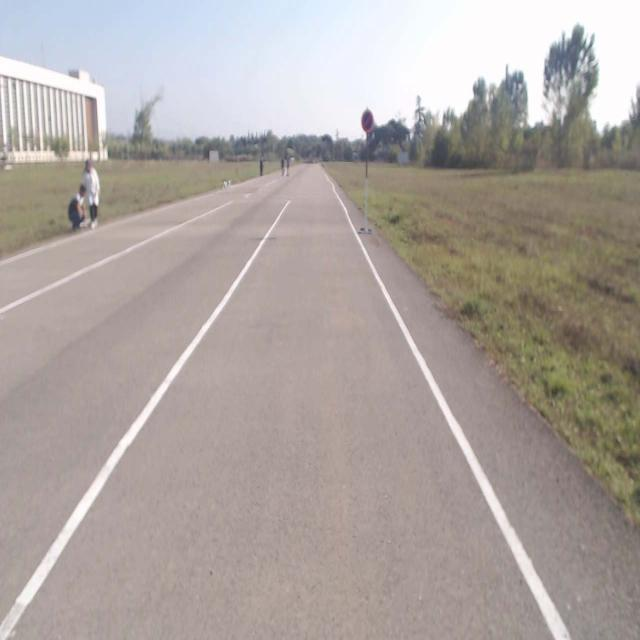parkyasak: (362, 111, 374, 131)
